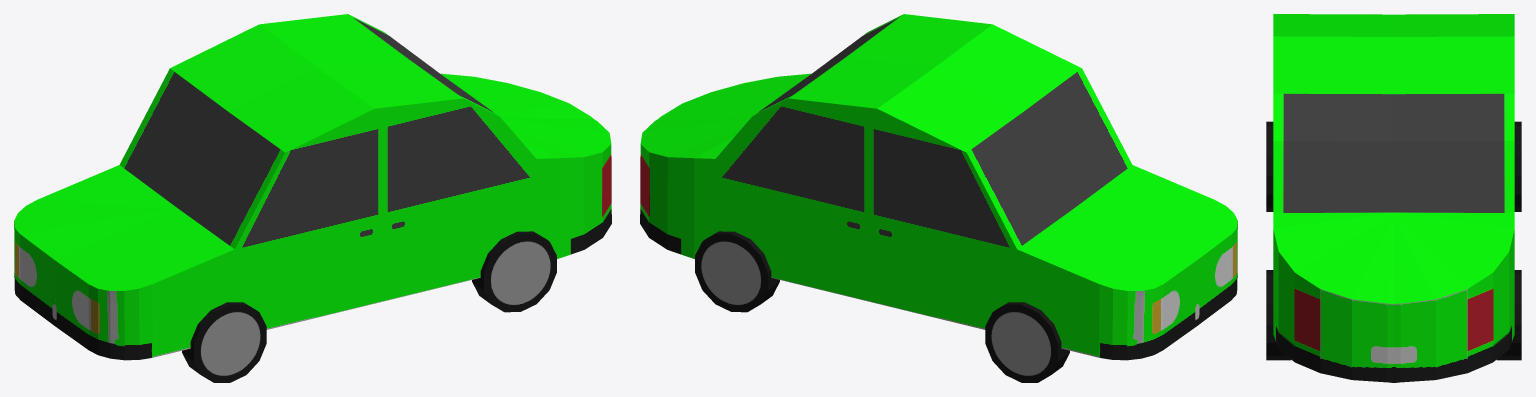
File: car2.dae
3 views of the same model, side by side, from view 1: azimuth 30°, elevation 25°; view 2: azimuth 150°, elevation 25°; view 3: azimuth 270°, elevation 25° (orthographic). The views are drawn at different scales.
Parts seen in each view (by area): view 1: Cube; view 2: Cube; view 3: Cube.
Part boxes in pixels (box(x1,y1,x2,y2)): Cube: box(14, 14, 611, 382); Cube: box(640, 14, 1237, 382); Cube: box(1266, 14, 1521, 382).
Bounding box in the file's own units: 3.86 × 1.51 × 1.61.
